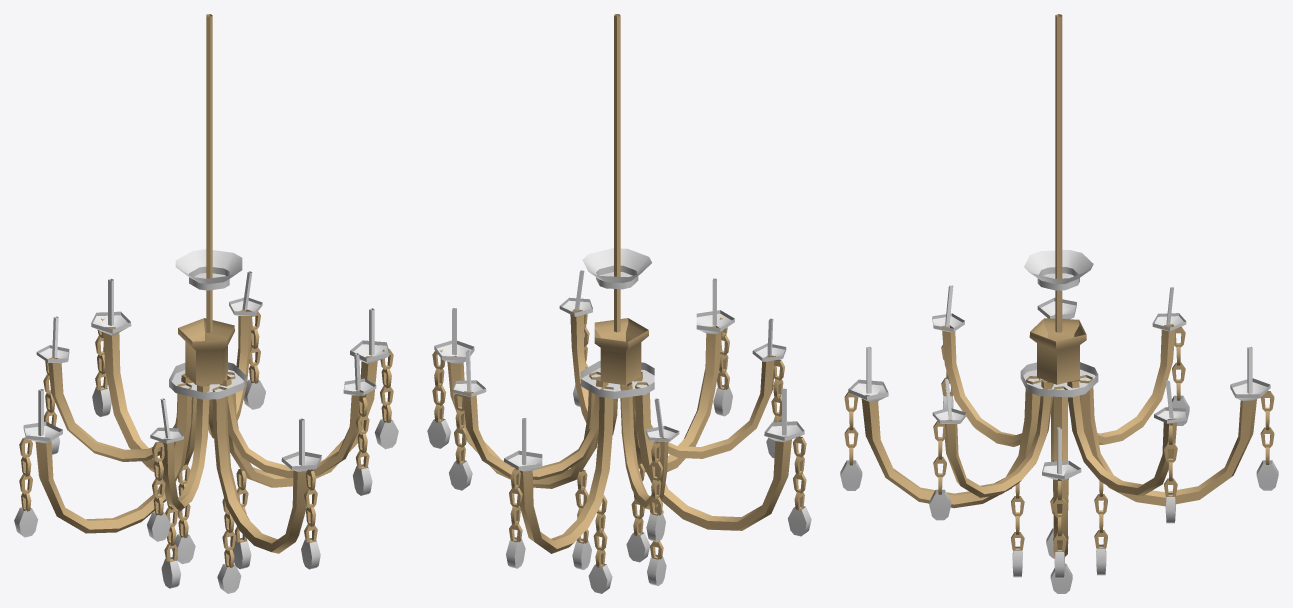
The model's file is ACT2_HangingChandelier_fin.fbx.
3 renders of one model, left to right at view 1: azimuth 30°, elevation 25°; view 2: azimuth 150°, elevation 25°; view 3: azimuth 270°, elevation 25°, orthographic.
Visible parts, largest first — view 1: SM_HangingChandelierArm.001, SM_HangingChandelierArm.003, SM_HangingChandelierArm.004, mesh_HangingChandelier, SM_HangingChandelierArm.002; view 2: SM_HangingChandelierArm.004, SM_HangingChandelierArm.003, SM_HangingChandelierArm.002, mesh_HangingChandelier, SM_HangingChandelierArm.001; view 3: SM_HangingChandelierArm.001, SM_HangingChandelierArm.004, mesh_HangingChandelier, SM_HangingChandelierArm.002, SM_HangingChandelierArm.003.
Part boxes in pixels (x1=…): SM_HangingChandelierArm.001: x1=212, y1=353, x2=376, y2=593; SM_HangingChandelierArm.003: x1=14, y1=383, x2=209, y2=588; SM_HangingChandelierArm.004: x1=36, y1=278, x2=196, y2=564; mesh_HangingChandelier: x1=169, y1=14, x2=246, y2=399; SM_HangingChandelierArm.002: x1=208, y1=271, x2=398, y2=569; SM_HangingChandelierArm.004: x1=504, y1=382, x2=679, y2=593; SM_HangingChandelierArm.003: x1=632, y1=318, x2=811, y2=585; SM_HangingChandelierArm.002: x1=427, y1=308, x2=608, y2=569; mesh_HangingChandelier: x1=580, y1=14, x2=654, y2=398; SM_HangingChandelierArm.001: x1=559, y1=270, x2=734, y2=562; SM_HangingChandelierArm.001: x1=840, y1=346, x2=1053, y2=577; SM_HangingChandelierArm.004: x1=1068, y1=287, x2=1278, y2=575; mesh_HangingChandelier: x1=1020, y1=14, x2=1098, y2=397; SM_HangingChandelierArm.002: x1=1042, y1=379, x2=1186, y2=593; SM_HangingChandelierArm.003: x1=932, y1=285, x2=1076, y2=558.
Size of the model in its own units: 129 by 182 by 129.
